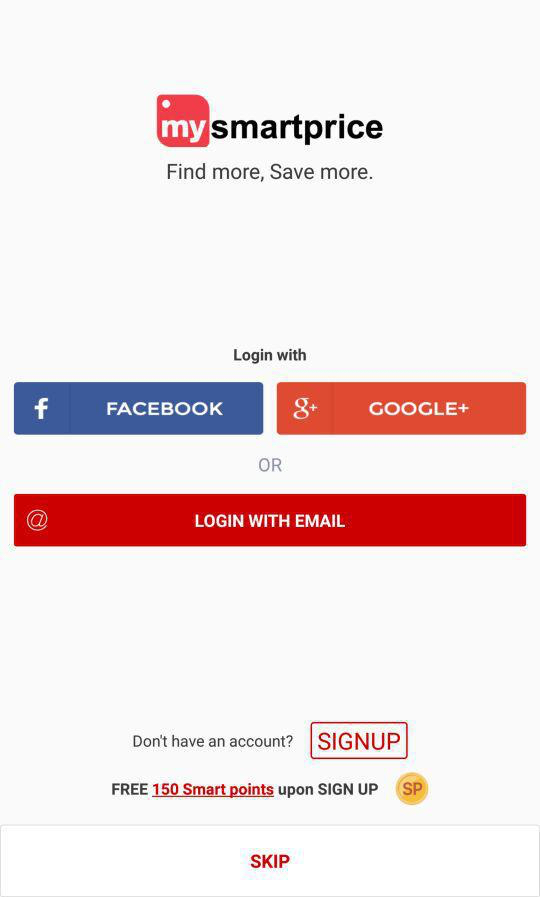Image: (276, 382, 527, 436), (14, 382, 264, 436), (156, 94, 385, 149), (395, 772, 429, 806)
Text: (112, 782, 380, 800), (167, 162, 374, 184), (133, 733, 294, 749), (234, 348, 308, 366), (258, 457, 284, 473)
TextButton: (1, 824, 540, 897), (14, 494, 527, 547), (310, 721, 409, 760)
